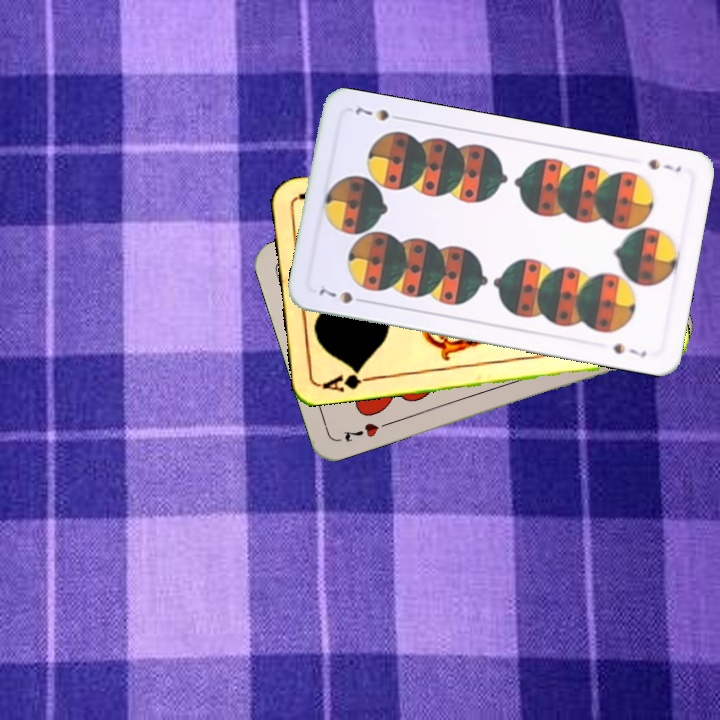GA: (317, 364, 376, 394)
H7: (339, 417, 393, 445)
S7: (315, 284, 370, 307), (644, 155, 684, 175)
